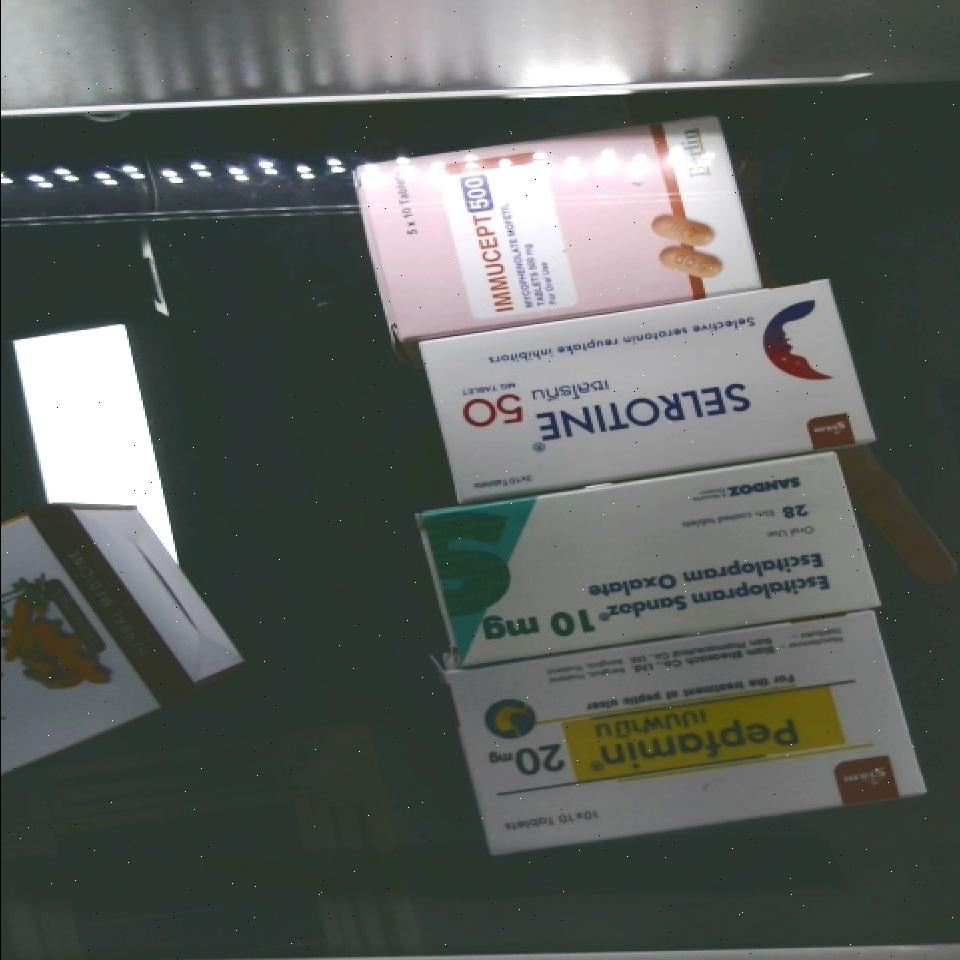medicine_box: (448, 607, 927, 857), (421, 451, 882, 672), (427, 276, 872, 503), (349, 107, 757, 346)
medicine_label_obb: (436, 332, 778, 484), (463, 531, 848, 659), (468, 677, 828, 804), (426, 152, 530, 331)
